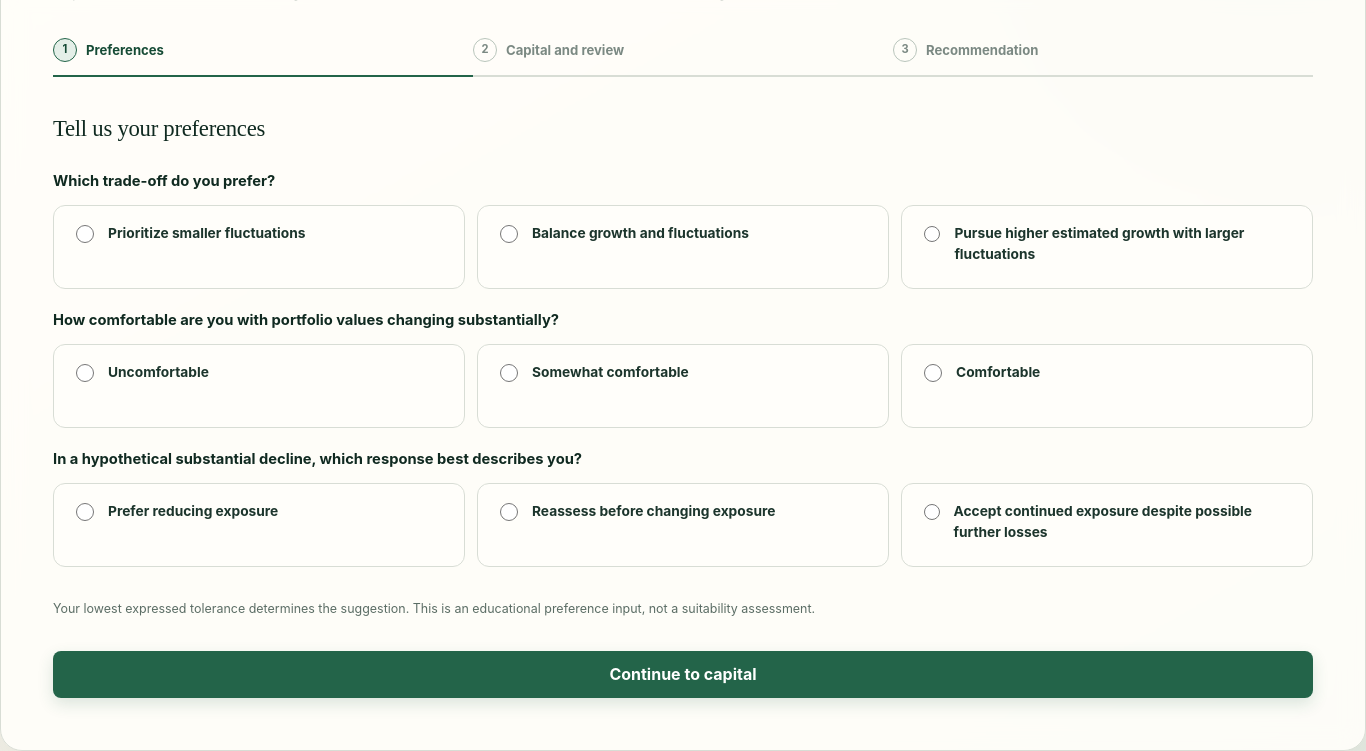
Test case: Guided builder › shows inline validation before submitting incomplete preferences
This screenshot has width=1366, height=751.
(page scrolled)
Click the button "Continue to capital". click: (683, 674)
box: [53,651,1313,698]
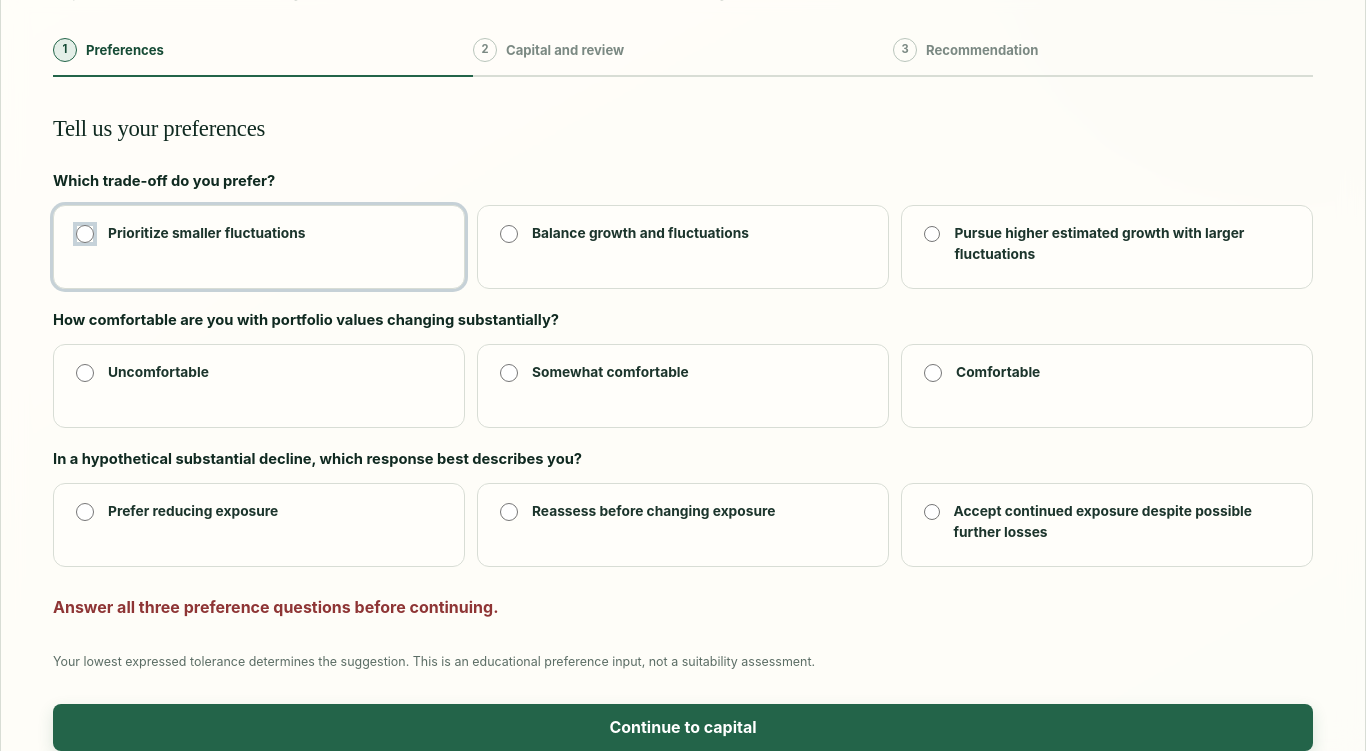
Expected: the message shows "Answer all three preference questions", [53,597,498,617]
